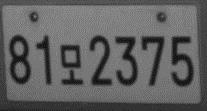1: (34, 33, 53, 85)
2: (89, 34, 113, 87)
3: (114, 35, 138, 86)
5: (170, 35, 194, 87)
7: (141, 35, 165, 86)
8: (8, 33, 31, 83)
모: (60, 43, 83, 86)
